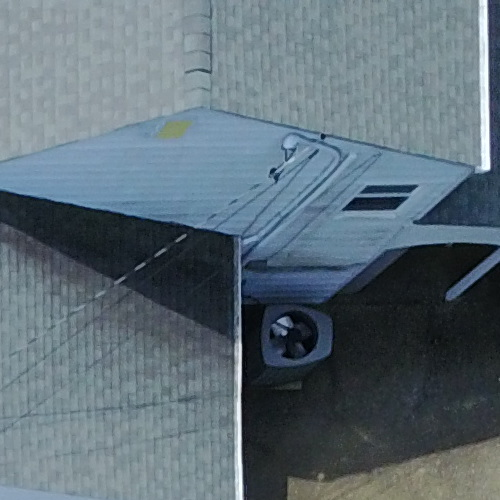air conditioner: (237, 287, 343, 381)
